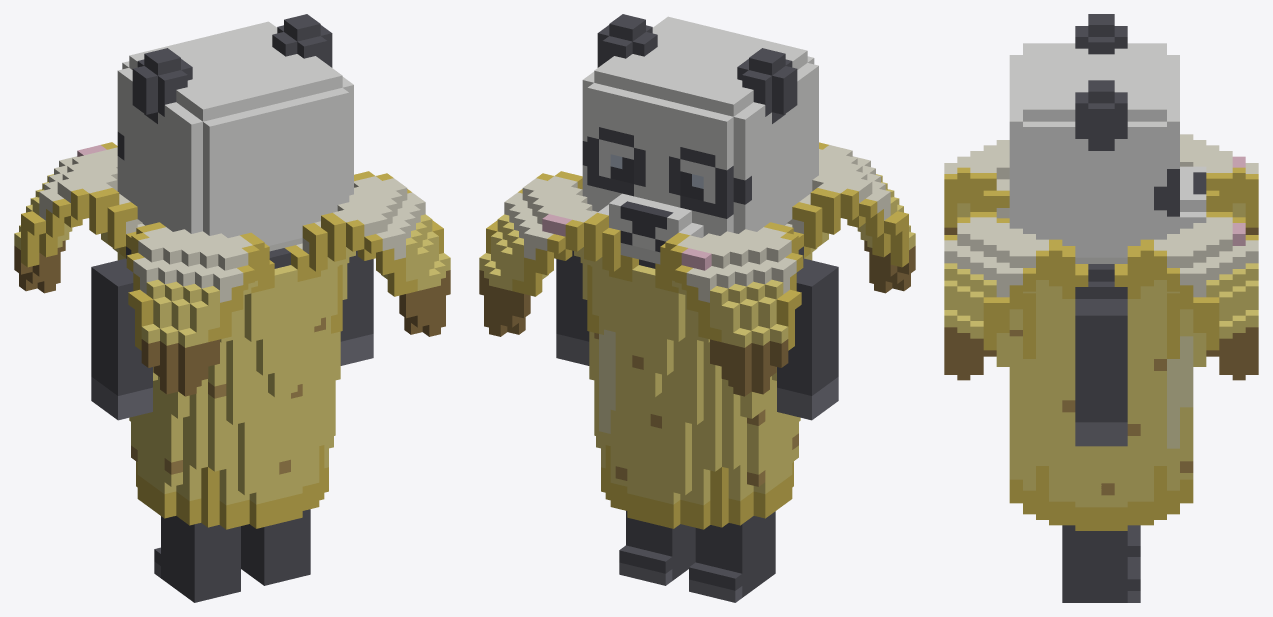
File: PandacciniBananini.glb
The picture shows the model from 3 angles, left to right: view 1: azimuth 30°, elevation 25°; view 2: azimuth 150°, elevation 25°; view 3: azimuth 270°, elevation 25°; orthographic projection. The views are drawn at different scales.
Parts seen in each view (by area): view 1: geometry_0; view 2: geometry_0; view 3: geometry_0.
Part boxes in pixels (x1,y1,x2,y2): geometry_0: [14, 14, 450, 602]; geometry_0: [479, 14, 915, 602]; geometry_0: [944, 14, 1258, 602].
Size of the model in its own units: 0.5909 by 1 by 0.5455.
